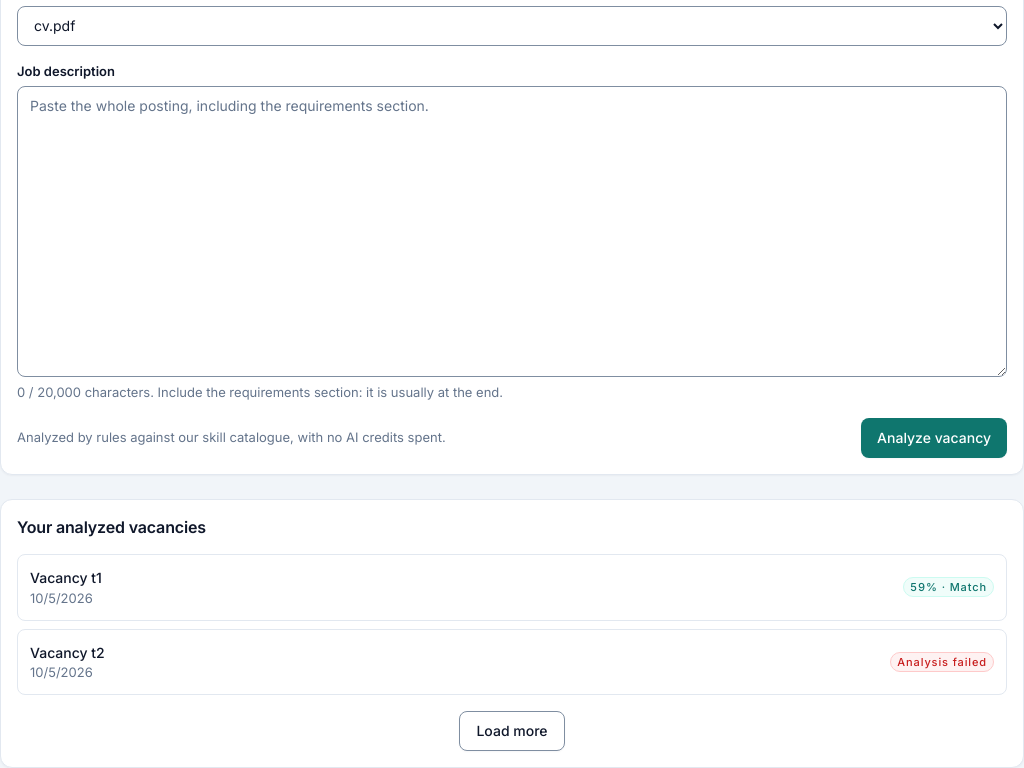
Test: JobTargetsPage › lists analysed vacancies with their band and walks the cursor
(page scrolled)
Expected: the link "Vacancy t1 10/5/2026 59% · Match" is shown, [17,554,1007,620]
Expected: the link "Vacancy t2 10/5/2026 Analysis failed" is shown, [17,629,1007,695]
Click the button "Load more" at (512, 731), box [459,711,564,751]
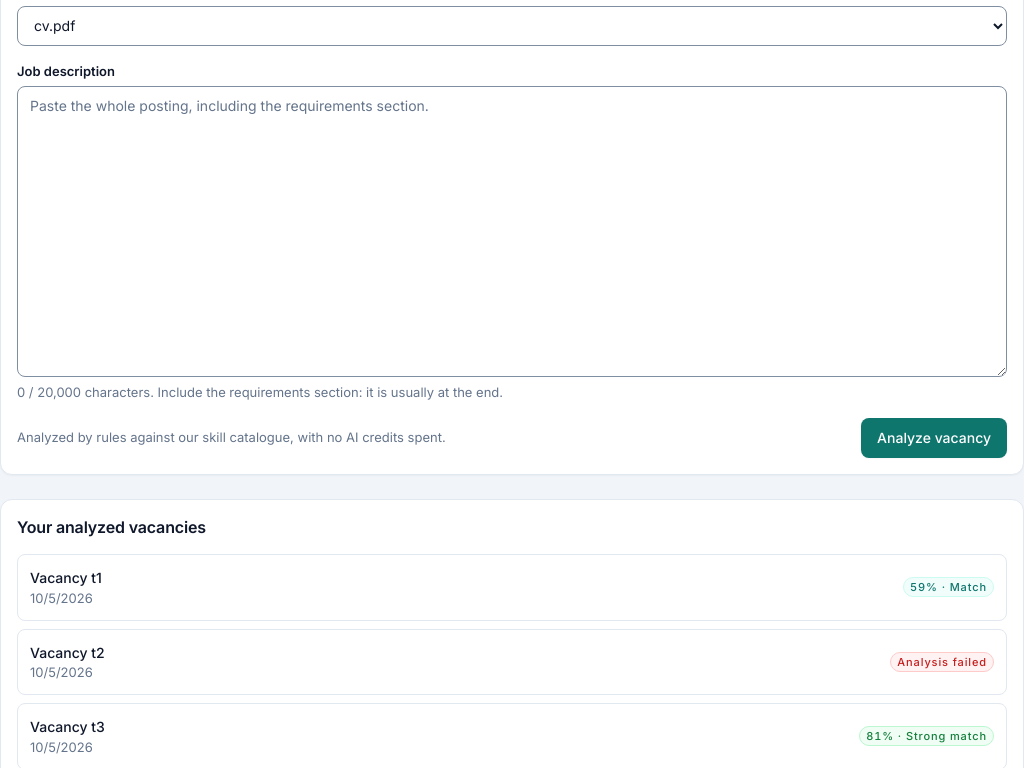
Expected: the link "Vacancy t1 10/5/2026 59% · Match" is shown, [17,554,1007,620]
Expected: the button "Load more" is gone
